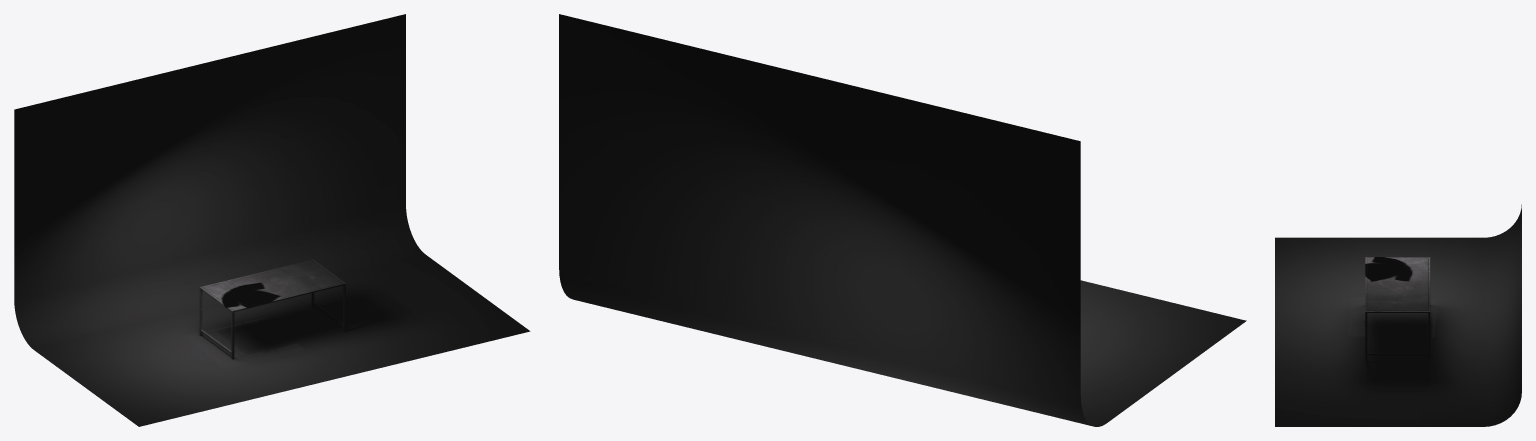
3 views of the same model, side by side, from view 1: azimuth 30°, elevation 25°; view 2: azimuth 150°, elevation 25°; view 3: azimuth 270°, elevation 25° (orthographic). The views are drawn at different scales.
Parts seen in each view (by area): view 1: Background, Table; view 2: Background; view 3: Background, Table.
Part boxes in pixels (box(x1,y1,x2,y2)): Background: box(14, 14, 530, 426); Table: box(199, 259, 345, 358); Background: box(559, 14, 1246, 426); Background: box(1275, 204, 1521, 426); Table: box(1365, 257, 1430, 358).
Size of the model in its own units: 6.72 by 3.71 by 3.71.
2 materials, 2 textured.
